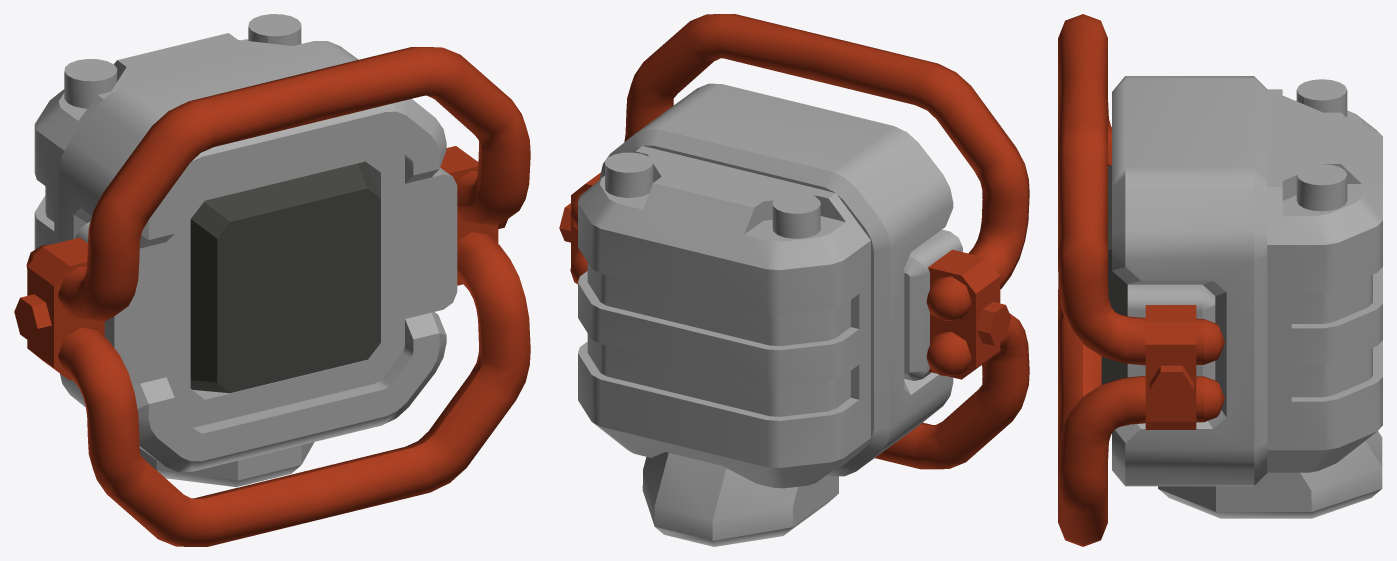
The model's file is obj_interactive_rangelight.fbx.
3 views of the same model, side by side, from view 1: azimuth 30°, elevation 25°; view 2: azimuth 150°, elevation 25°; view 3: azimuth 270°, elevation 25° (orthographic). The views are drawn at different scales.
Visible parts, largest first — view 1: part5_lp.003, part5_lp.004, rangelight_face_lp.002; view 2: part5_lp.003, part5_lp.004; view 3: part5_lp.003, part5_lp.004, rangelight_face_lp.002.
Part boxes in pixels (x1,y1,x2,y2): part5_lp.003: (34,14,457,487); part5_lp.004: (14,47,530,546); rangelight_face_lp.002: (190,161,380,393); part5_lp.003: (578,83,962,546); part5_lp.004: (559,14,1029,469); part5_lp.003: (1112,76,1382,518); part5_lp.004: (1058,14,1224,546); rangelight_face_lp.002: (1101,165,1127,384).
Size of the model in its own units: 2.27 by 2.04 by 1.43.
